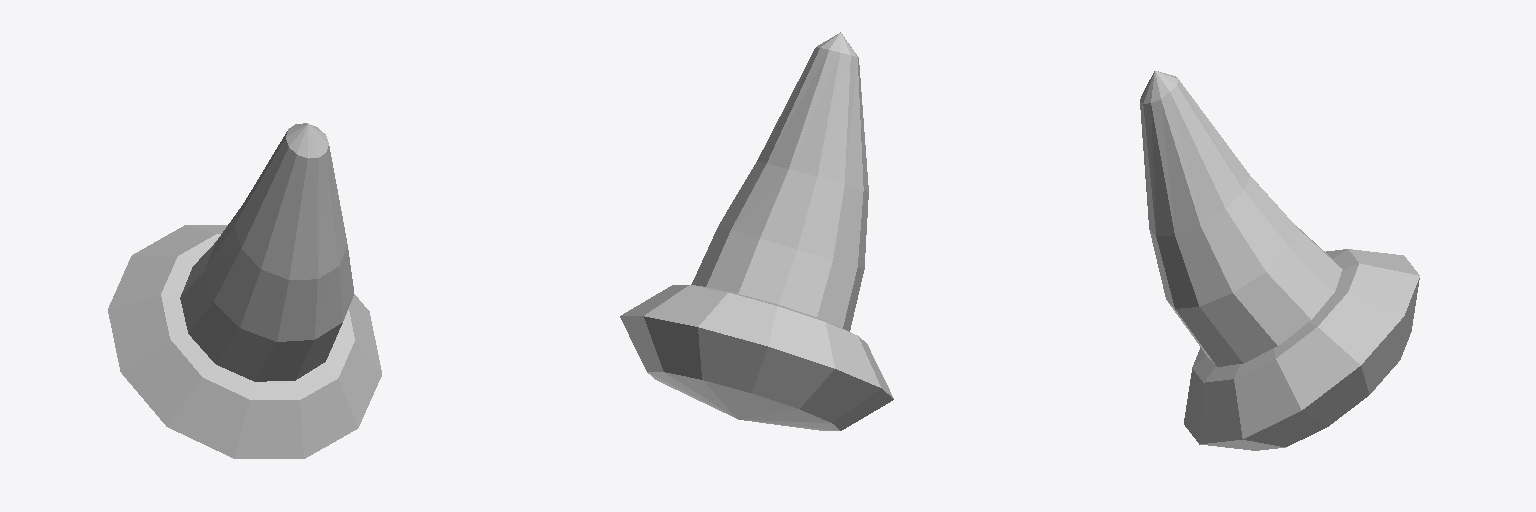
Rendered from rhino_horn.obj.
The picture shows the model from 3 angles: view 1: azimuth 30°, elevation 25°; view 2: azimuth 150°, elevation 25°; view 3: azimuth 270°, elevation 25°; orthographic projection.
Visible parts, largest first — view 1: Cone.002, Cone; view 2: Cone, Cone.002; view 3: Cone, Cone.002.
Part boxes in pixels (x1,y1,x2,y2): Cone.002: (108,225,381,458); Cone: (180,123,353,381); Cone: (691,32,868,331); Cone.002: (620,285,893,430); Cone: (1140,71,1342,366); Cone.002: (1184,249,1419,450).
Size of the model in its own units: 0.3773 by 0.5226 by 0.3678.